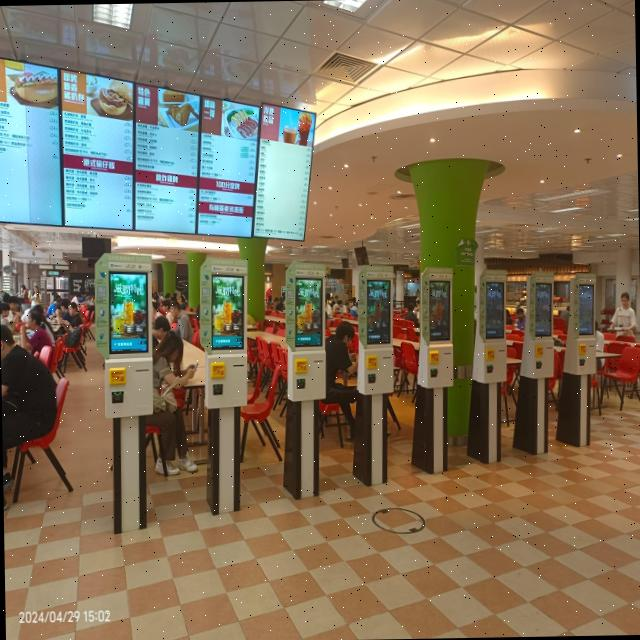orderKiosk: (98, 258, 151, 420), (202, 256, 248, 409), (286, 260, 324, 399), (358, 270, 394, 392), (419, 266, 451, 388), (478, 271, 506, 383), (569, 279, 596, 375), (528, 276, 552, 379)
